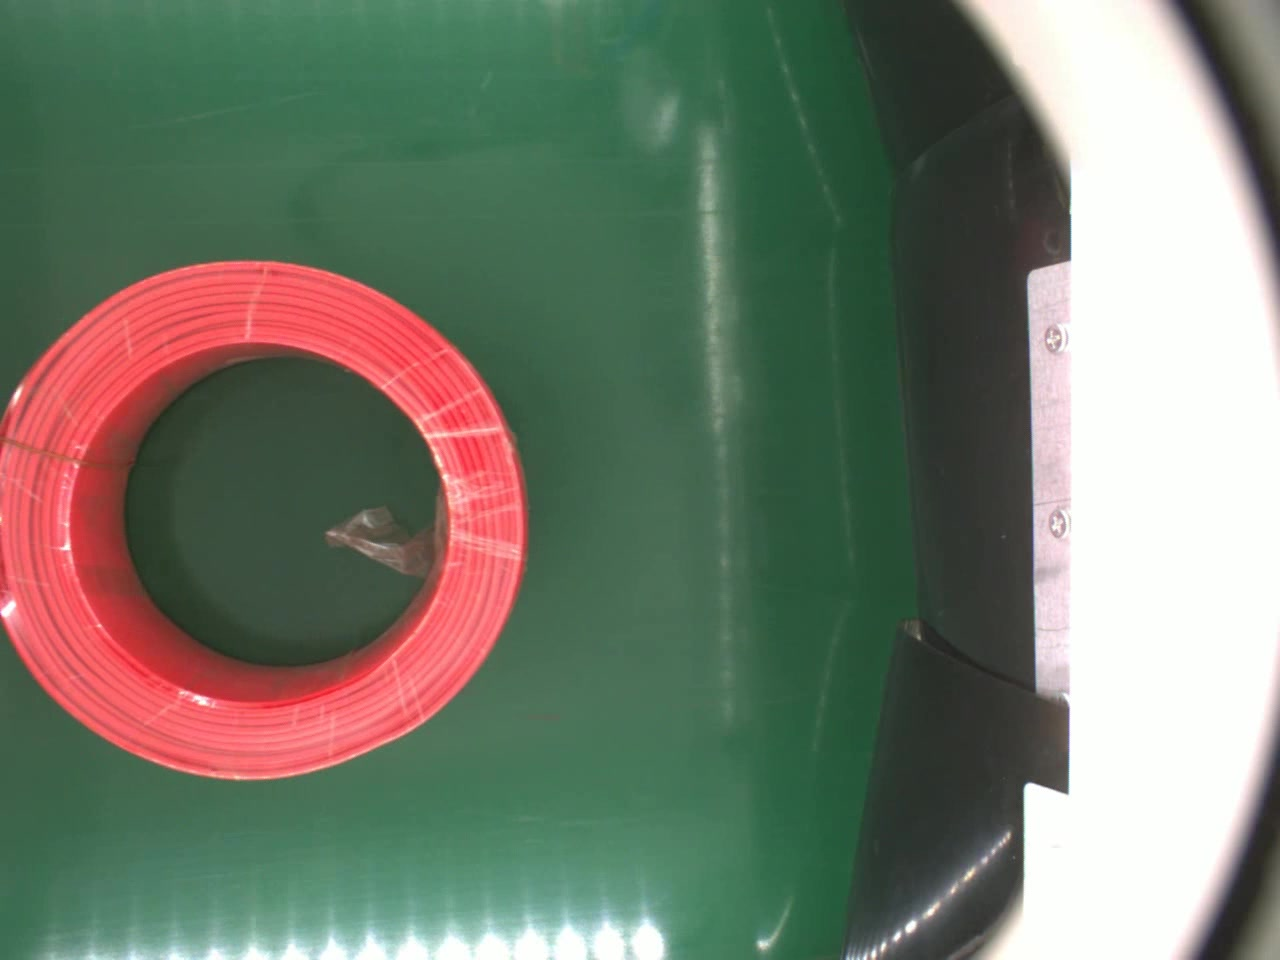red: (4, 257, 533, 781)
